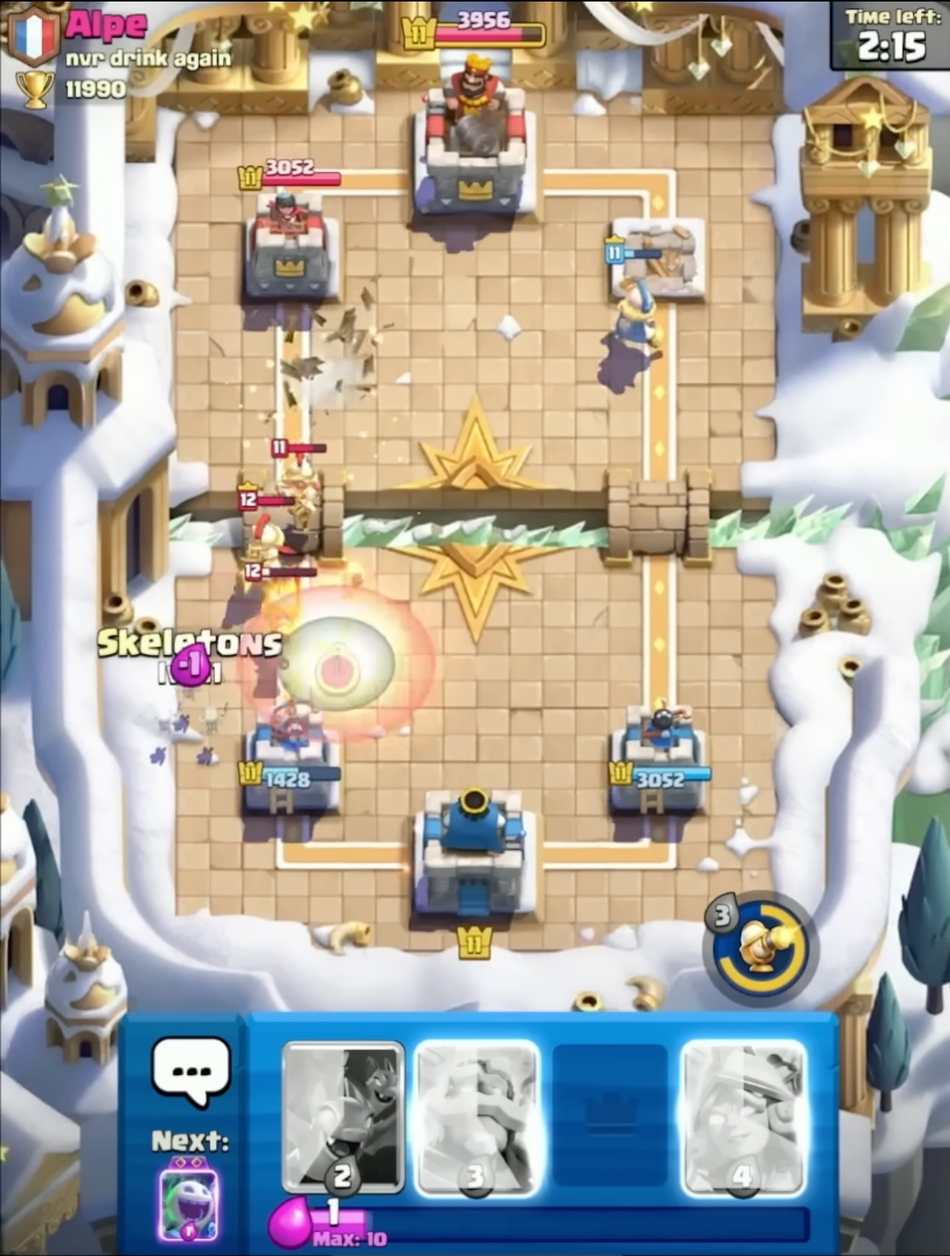hero-musketeer: (229, 479, 295, 594), (261, 436, 329, 537)
